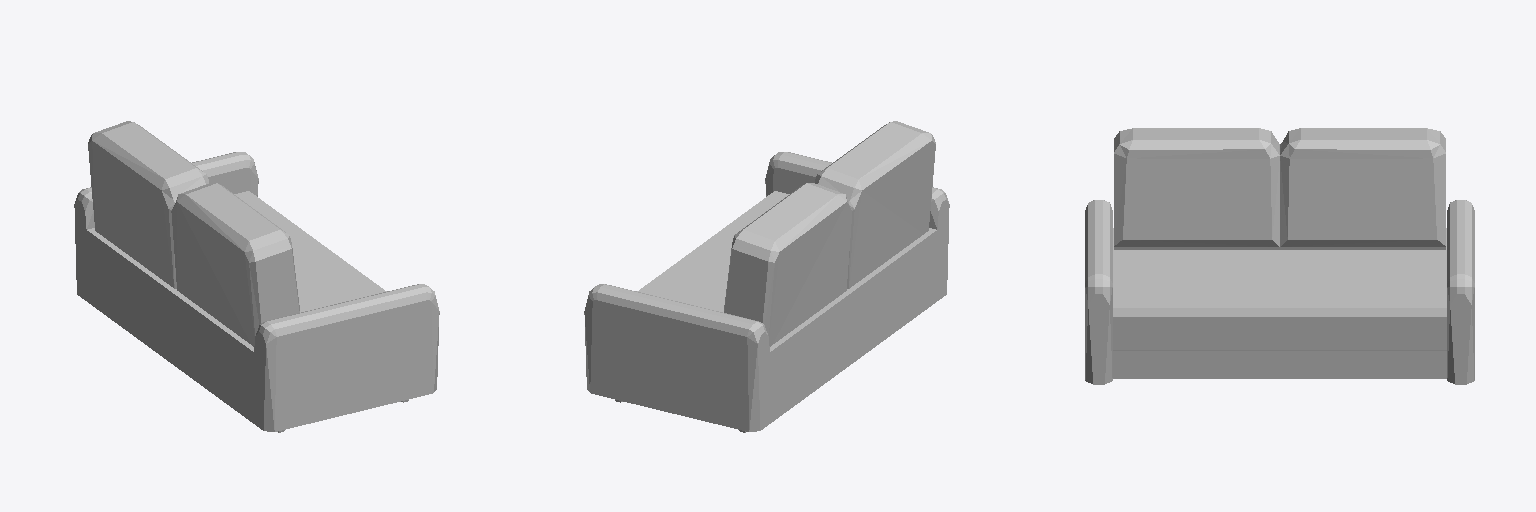
The model's file is Sofa02_blue.obj.
3 views of the same model, side by side, from view 1: azimuth 30°, elevation 25°; view 2: azimuth 150°, elevation 25°; view 3: azimuth 270°, elevation 25° (orthographic).
Visible parts, largest first — view 1: Sofa02_Blue_LOD0_divan.003; view 2: Sofa02_Blue_LOD0_divan.003; view 3: Sofa02_Blue_LOD0_divan.003.
Boxes of the visible parts, x1,y1,x2,y2 form: Sofa02_Blue_LOD0_divan.003: [74, 121, 439, 432]; Sofa02_Blue_LOD0_divan.003: [584, 121, 949, 432]; Sofa02_Blue_LOD0_divan.003: [1085, 128, 1474, 384].
Size of the model in its own units: 0.9718 by 0.9786 by 1.87.